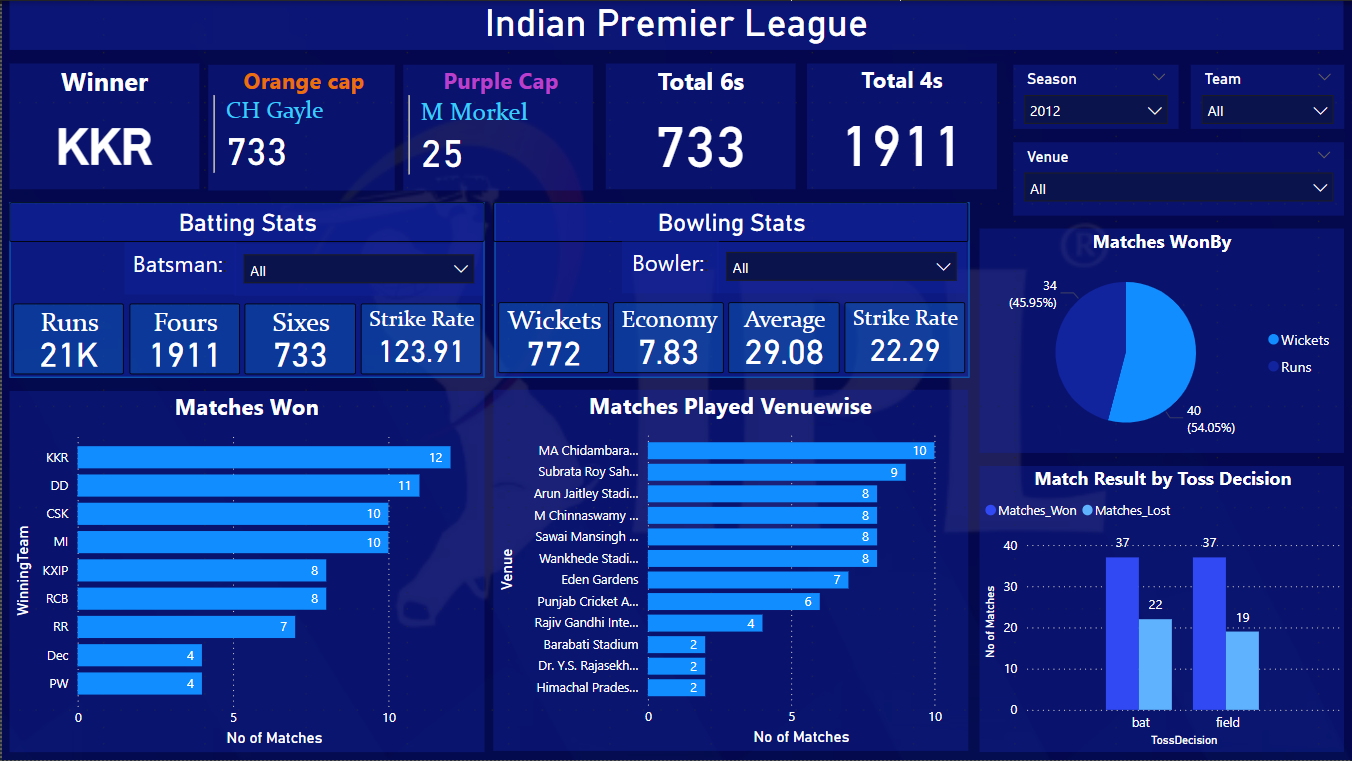

Layout of this report page (visuals, bound fields, positions):
{"tool":"powerbi","page":{"name":"Season","canvas":[1280,720],"ordinal":0},"visuals":[{"type":"shape","box":[466.5,190.6,450.3,166.7],"z":0},{"type":"shape","box":[7.5,190.8,450.3,166.7],"z":1000},{"type":"card","title":"Winner","fields":{"Values":["IPL_Balls_final.SeasonWinner"]},"box":[7.5,59.7,180.4,119.4],"z":2000},{"type":"card","title":"Total 4s","fields":{"Values":["IPL_Balls_final.Total4s"]},"box":[763.8,59.7,180.4,119.4],"z":3000},{"type":"card","title":"Total 6s","fields":{"Values":["IPL_Balls_final.Total6s"]},"box":[572.2,59.7,180.4,119.4],"z":4000},{"type":"multiRowCard","title":"Orange cap","fields":{"Values":["IPL_Balls_final.Top_Batsman","IPL_Balls_final.MaxRunsValue"]},"box":[195.3,61,176.6,119.4],"z":5000},{"type":"multiRowCard","title":"Purple Cap","fields":{"Values":["IPL_Balls_final.Top_Bowler","IPL_Balls_final.MaxBowlerWicketsValue"]},"box":[380.7,61,180.4,119.4],"z":6000},{"type":"card","title":"Strike Rate","fields":{"Values":["IPL_Balls_final.Strike Rate"]},"box":[339.6,286.4,114.4,67.2],"z":7000},{"type":"slicer","fields":{"Values":["IPL_Balls_final.batter"]},"box":[220.2,229.4,236.4,49.8],"z":8000},{"type":"pieChart","title":"Matches WonBy ","fields":{"Y":["CountNonNull(IPL_Matches_final.MatchNumber)"],"Category":["IPL_Matches_final.WonBy"]},"box":[926.7,215.2,345.8,212.7],"z":9000},{"type":"clusteredBarChart","title":"Matches Won","fields":{"Category":["IPL_Matches_final.WinningTeam"],"Y":["CountNonNull(IPL_Matches_final.MatchNumber)"]},"box":[7.5,369.5,450.3,342.1],"z":10000},{"type":"textbox","title":"Indian Premier League","box":[7.5,0,1265.1,46],"z":11000},{"type":"textbox","title":"Batting Stats","box":[7.5,190.8,450.3,37.3],"z":12000},{"type":"card","title":"Fours","fields":{"Values":["IPL_Balls_final.4s"]},"box":[120.7,286.4,104.5,67.2],"z":13000},{"type":"card","title":"Sixes","fields":{"Values":["IPL_Balls_final.6s"]},"box":[230.1,286.4,105.7,67.2],"z":14000},{"type":"card","title":"Runs","fields":{"Values":["IPL_Balls_final.Total Runs"]},"box":[11.2,286.4,105,67.2],"z":15000},{"type":"slicer","fields":{"Values":["IPL_Balls_final.bowler"]},"box":[678,227.9,236.4,49.8],"z":16000},{"type":"textbox","title":"Bowling Stats","box":[466.3,190.6,450.3,37.3],"z":17000},{"type":"textbox","box":[588.4,227.9,92.1,49.8],"z":18000},{"type":"textbox","box":[115.7,229.1,105.7,49.8],"z":19000},{"type":"clusteredColumnChart","title":"Match Result by Toss Decision","fields":{"Category":["IPL_Matches_final.TossDecision"],"Y":["IPL_Balls_final.Matches_Won","IPL_Balls_final.Matches_Lost"]},"box":[926.7,440.4,345.8,271.2],"z":20000},{"type":"card","title":"Strike Rate","fields":{"Values":["IPL_Balls_final.BowlingStrikeRate"]},"box":[798.6,286,114.4,67.2],"z":21000},{"type":"card","title":"Economy","fields":{"Values":["IPL_Balls_final.EconomyRate"]},"box":[579.7,286,104.5,67.2],"z":22000},{"type":"card","title":"Average","fields":{"Values":["IPL_Balls_final.BowlingAverage"]},"box":[689.2,286,105.7,67.2],"z":23000},{"type":"card","title":"Wickets","fields":{"Values":["IPL_Balls_final.TotalWickets"]},"box":[470.2,286,105,67.2],"z":24000},{"type":"clusteredBarChart","title":"Matches Played Venuewise","fields":{"Category":["IPL_Matches_final.Venue"],"Y":["CountNonNull(IPL_Matches_final.MatchNumber)"]},"box":[466,369,450,342],"z":25000},{"type":"slicer","fields":{"Values":["IPL_Matches_final.Season"]},"box":[959.1,61,156.7,61],"z":26000},{"type":"slicer","fields":{"Values":["IPL_Matches_final.Venue"]},"box":[959.1,134.3,313.5,69.7],"z":27000},{"type":"slicer","fields":{"Values":["Teams.Team"]},"box":[1127,61,145.5,61],"z":28000}]}

Visuals, with their boxes in screenshot pixels (x1, y1, x2, y2), scaled from the page's 1280x720 canvas onto the 1352x761 screenshot:
shape: box=[493, 201, 968, 378]
shape: box=[8, 202, 484, 378]
"Winner" card: box=[8, 63, 198, 189]
"Total 4s" card: box=[807, 63, 997, 189]
"Total 6s" card: box=[604, 63, 795, 189]
"Orange cap" multiRowCard: box=[206, 64, 393, 191]
"Purple Cap" multiRowCard: box=[402, 64, 593, 191]
"Strike Rate" card: box=[359, 303, 480, 374]
slicer - IPL_Balls_final.batter: box=[233, 242, 482, 295]
"Matches WonBy " pieChart: box=[979, 227, 1344, 452]
"Matches Won" clusteredBarChart: box=[8, 391, 484, 752]
"Indian Premier League" textbox: box=[8, 0, 1344, 49]
"Batting Stats" textbox: box=[8, 202, 484, 241]
"Fours" card: box=[127, 303, 238, 374]
"Sixes" card: box=[243, 303, 355, 374]
"Runs" card: box=[12, 303, 123, 374]
slicer - IPL_Balls_final.bowler: box=[716, 241, 966, 294]
"Bowling Stats" textbox: box=[493, 201, 968, 241]
textbox: box=[621, 241, 719, 294]
textbox: box=[122, 242, 234, 295]
"Match Result by Toss Decision" clusteredColumnChart: box=[979, 465, 1344, 752]
"Strike Rate" card: box=[844, 302, 964, 373]
"Economy" card: box=[612, 302, 723, 373]
"Average" card: box=[728, 302, 840, 373]
"Wickets" card: box=[497, 302, 608, 373]
"Matches Played Venuewise" clusteredBarChart: box=[492, 390, 968, 751]
slicer - IPL_Matches_final.Season: box=[1013, 64, 1179, 129]
slicer - IPL_Matches_final.Venue: box=[1013, 142, 1344, 216]
slicer - Teams.Team: box=[1190, 64, 1344, 129]
